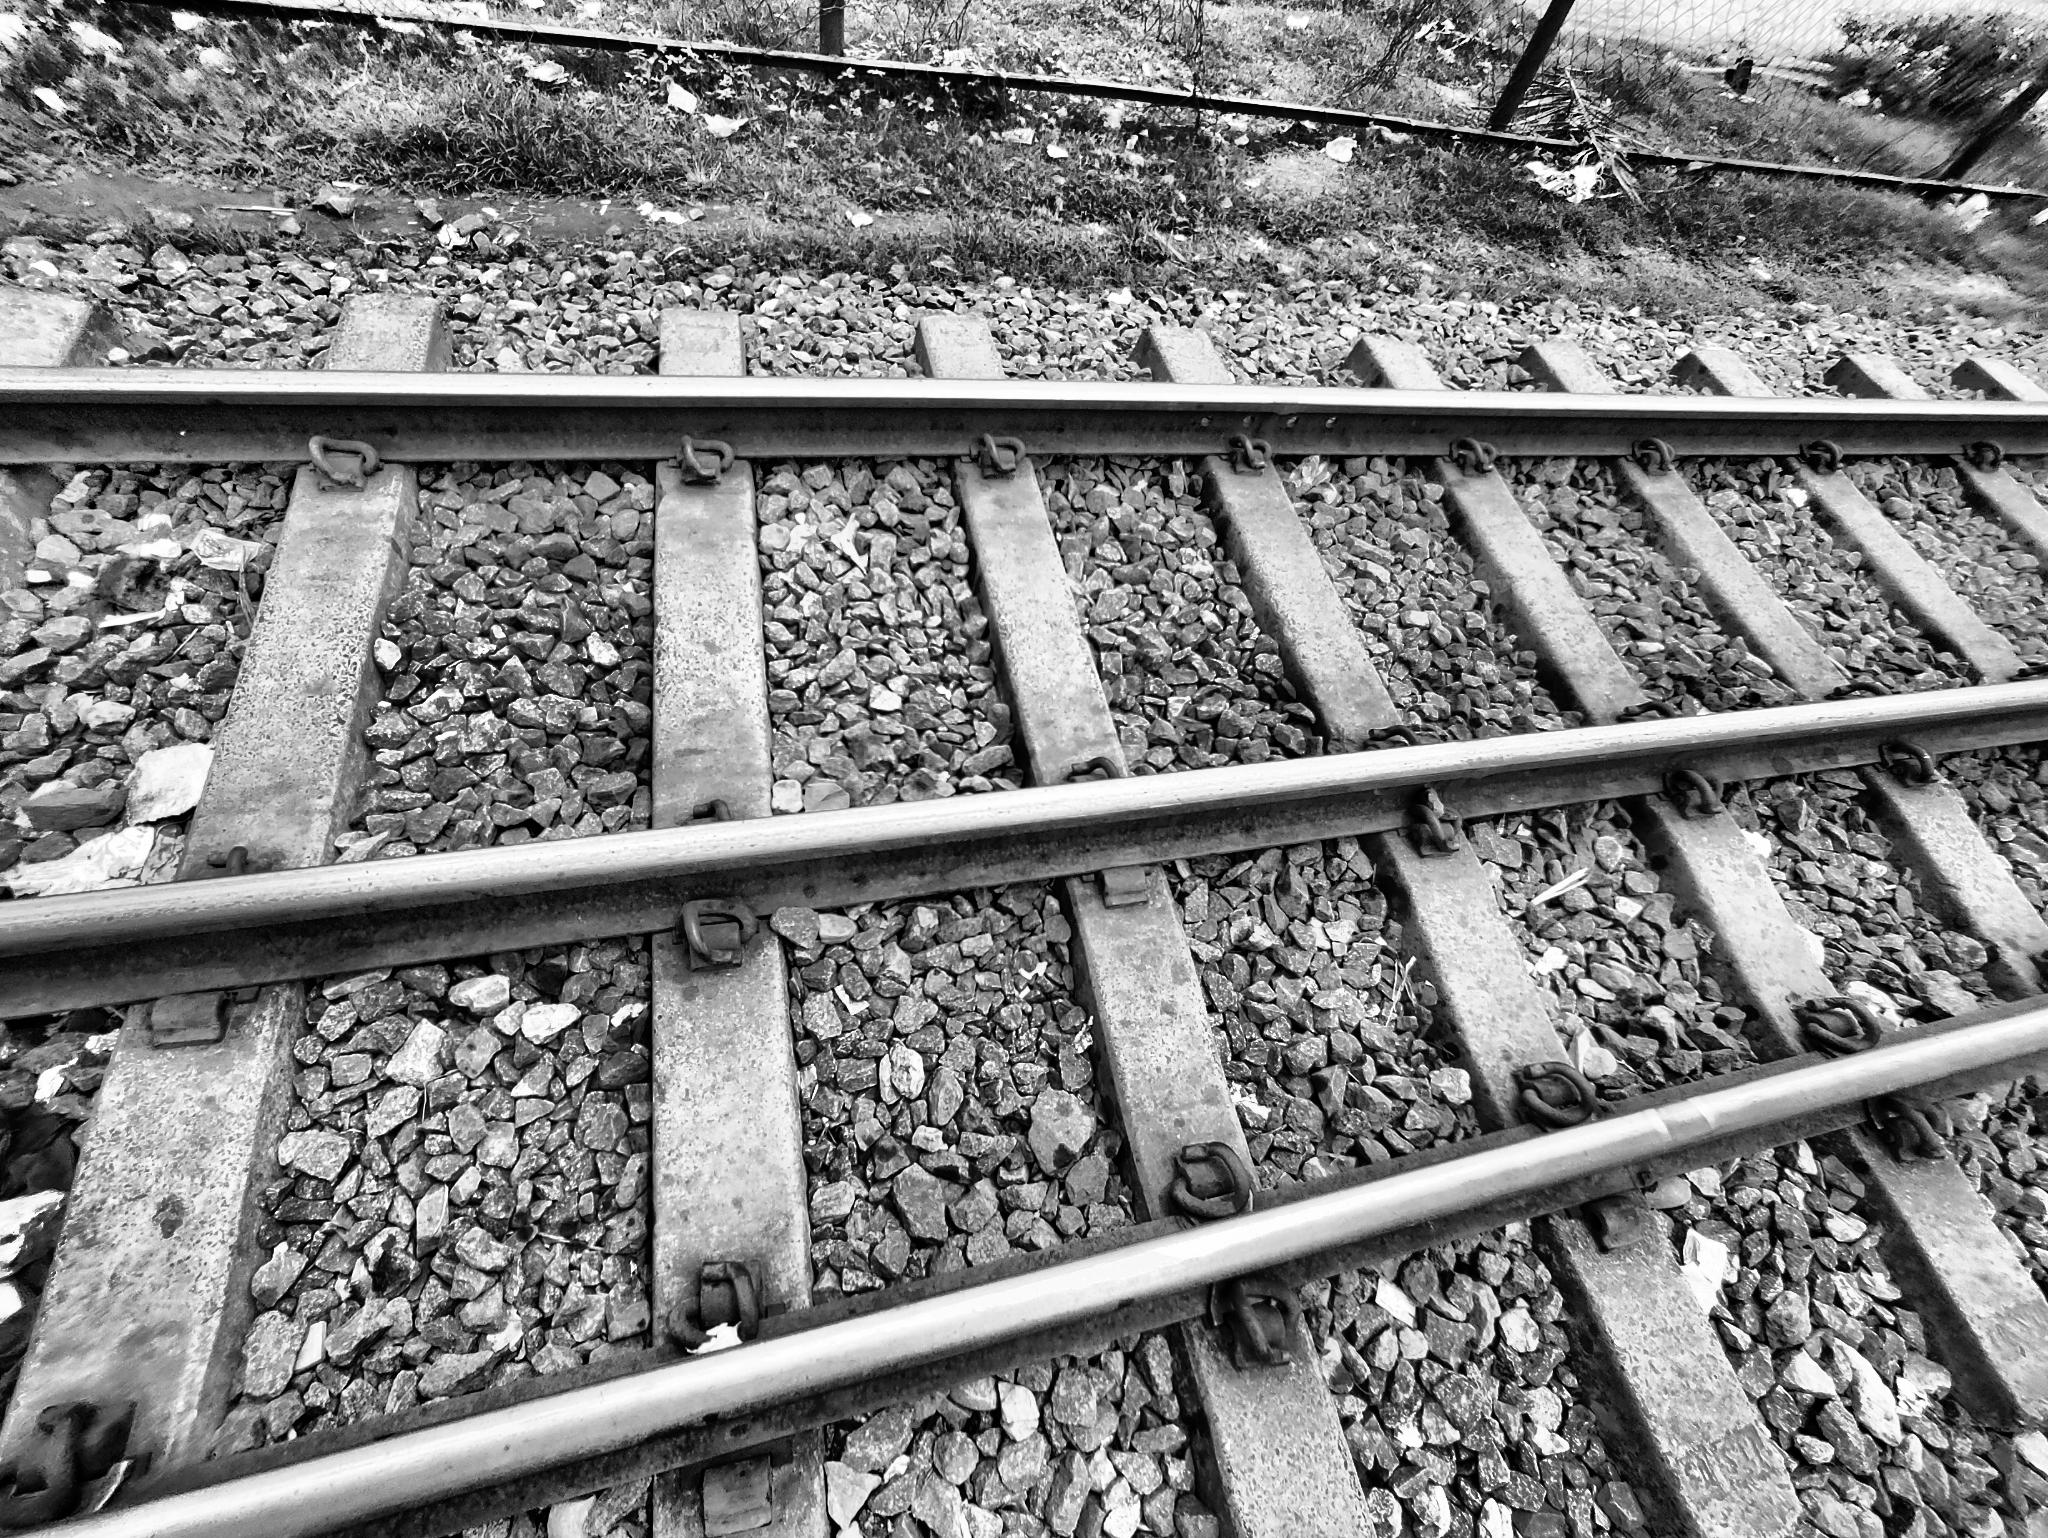Trash: (0, 1084, 100, 1430)
